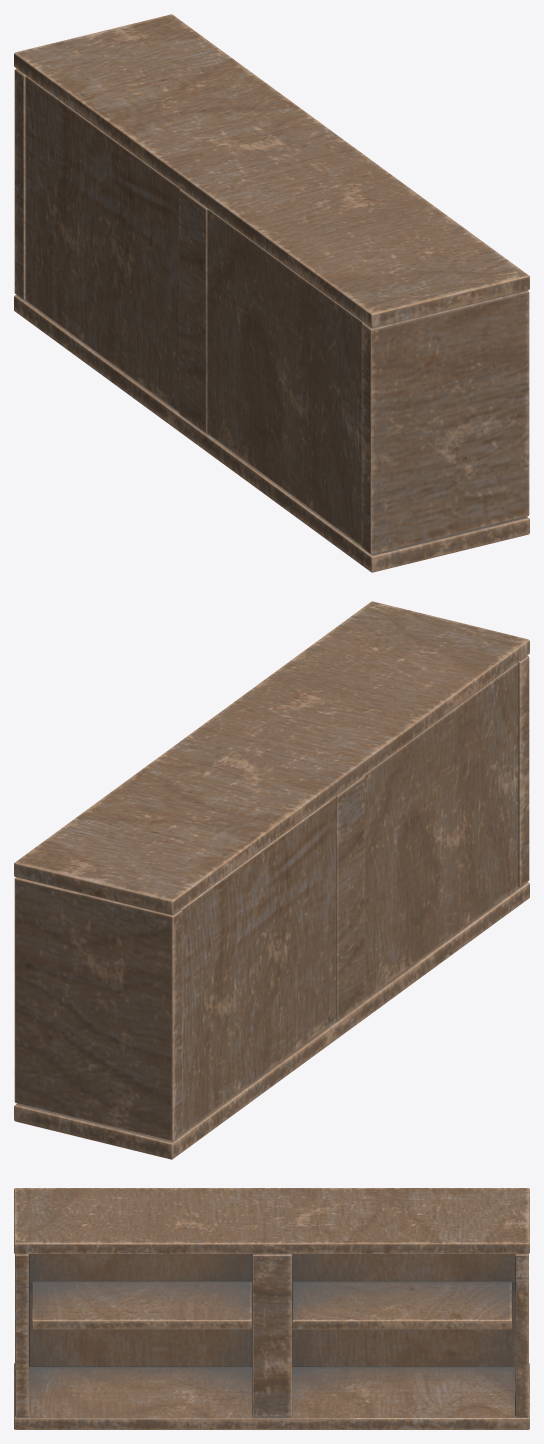
File: SM_Wall_Shelf_1.fbx
3 renders of one model, top to bottom at view 1: azimuth 30°, elevation 25°; view 2: azimuth 150°, elevation 25°; view 3: azimuth 270°, elevation 25°, orthographic. The views are drawn at different scales.
Parts seen in each view (by area): view 1: SM_Wall_Shelf_1_LOD0; view 2: SM_Wall_Shelf_1_LOD0; view 3: SM_Wall_Shelf_1_LOD0.
Part boxes in pixels (x1,y1,x2,y2): SM_Wall_Shelf_1_LOD0: (14,14,529,572); SM_Wall_Shelf_1_LOD0: (14,601,529,1159); SM_Wall_Shelf_1_LOD0: (14,1188,529,1429).
Size of the model in its own units: 20.07 by 78.16 by 31.21.
1 material, 1 textured.
